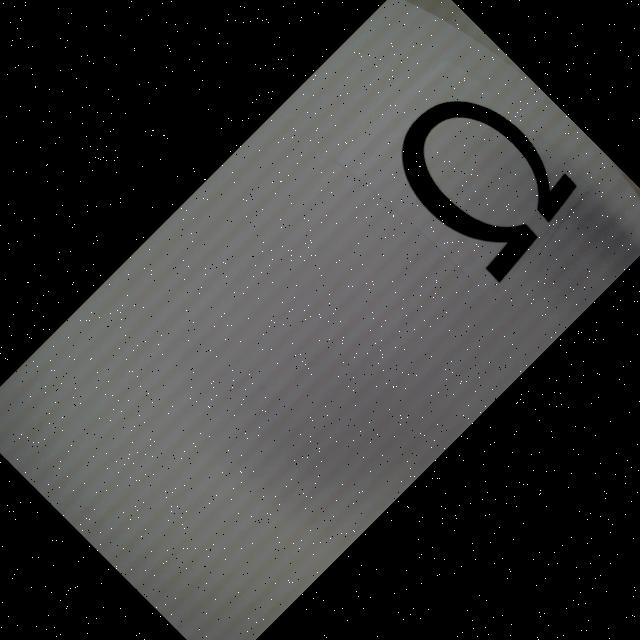OMEGA: (376, 71, 586, 282)
